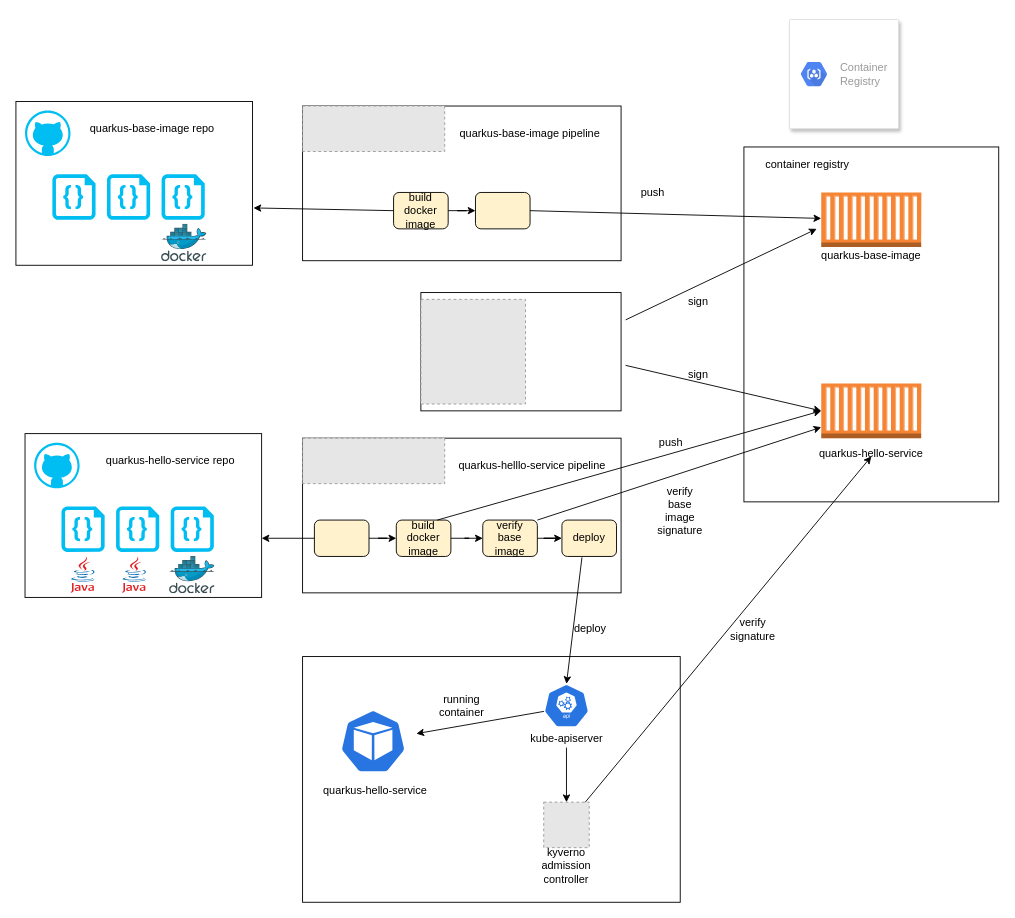
Some shapes in this 1015 by 918 pixel diagram are drawn without their labels. Grey dashed boxes stand in for pictures. Each missing label, with the centre of its shape:
build source code: point (341, 537)
push image: point (502, 210)
